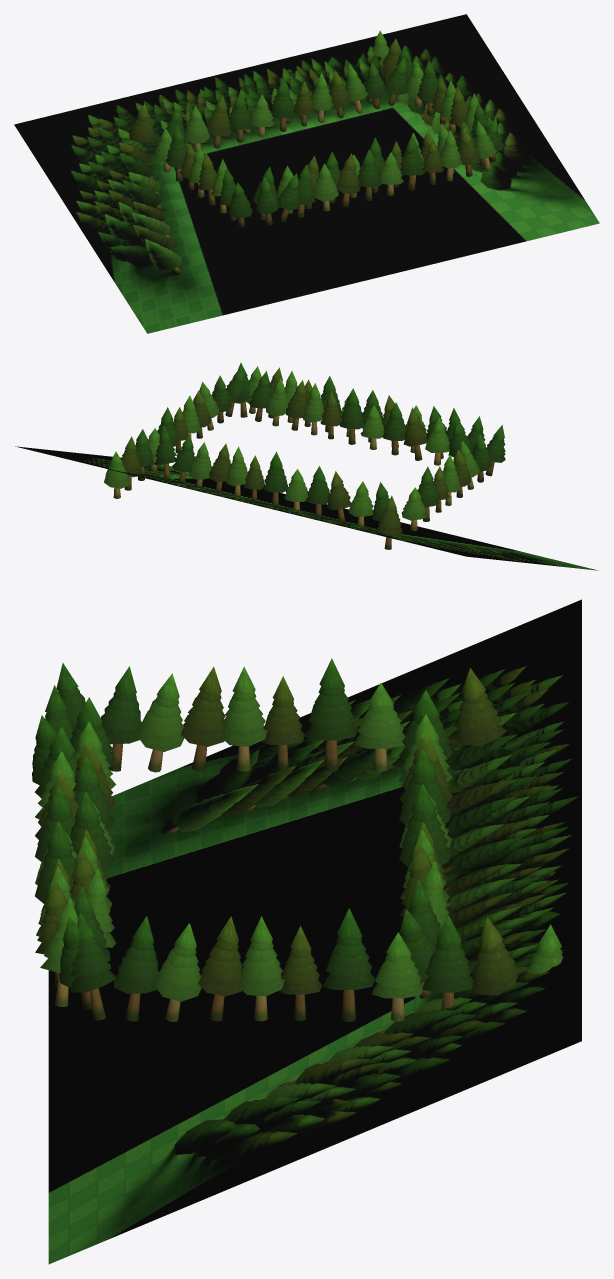
The model's file is Scene_Mockup.fbx.
3 renders of one model, top to bottom at view 1: azimuth 30°, elevation 25°; view 2: azimuth 150°, elevation 25°; view 3: azimuth 270°, elevation 25°, orthographic. The views are drawn at different scales.
Parts seen in each view (by area): view 1: Plane_9, Cone_4_3, Cone_4_5, Cone_1_5, Cone_1_3, Cone_2_2, Cone_2_5, Cone_2_3, Cone_4, Cone_4_2, Cone_4_6, Cone_11_3 (+21 smaller); view 2: Plane_9, Cone_4_4, Cone_4_5, Cone_1, Cone_2_4, Cone_1_4, Cone_1_5, Cone, Cone_2_5, Cone_3_5, Cone_6_4, Cone_4_6 (+37 smaller); view 3: Plane_9, Cone_4, Cone_4_2, Cone_6_2, Cone_2, Cone_6, Cone_9_2, Cone_9, Cone_8_2, Cone_10_2, Cone_8, Cone_3_2 (+28 smaller).
Boxes of the visible parts, x1,y1,x2,y2 form: Plane_9: (14,14,599,333); Cone_4_3: (399,135,425,190); Cone_4_5: (270,78,296,131); Cone_1_5: (206,96,231,148); Cone_1_3: (336,153,360,206); Cone_2_2: (357,149,381,201); Cone_2_5: (228,92,253,142); Cone_2_3: (314,163,338,211); Cone_4: (165,126,187,181); Cone_4_2: (417,60,438,115); Cone_4_6: (185,106,209,152); Cone_11_3: (277,173,299,221); Plane_9: (15,446,598,570); Cone_4_4: (339,388,363,444); Cone_4_5: (263,451,287,505); Cone_1: (376,495,402,549); Cone_2_4: (382,402,406,455); Cone_1_4: (403,407,427,460); Cone_1_5: (327,471,351,521); Cone: (104,451,129,498); Cone_2_5: (306,466,329,515); Cone_3_5: (425,417,449,465); Cone_6_4: (303,383,324,435); Cone_4_6: (348,481,373,526); Plane_9: (48,599,581,1264); Cone_4: (305,658,357,772); Cone_4_2: (322,908,375,1021); Cone_6_2: (240,916,284,1021); Cone_2: (422,915,473,1008); Cone_6: (222,666,267,771); Cone_9_2: (155,923,201,1021); Cone_9: (137,673,184,772); Cone_8_2: (198,916,242,1021); Cone_10_2: (114,916,159,1021); Cone_8: (181,666,225,771); Cone_3_2: (372,932,422,1021).
Bounding box in the file's own units: 1562 × 435 × 822.
4 materials, 4 textured.
